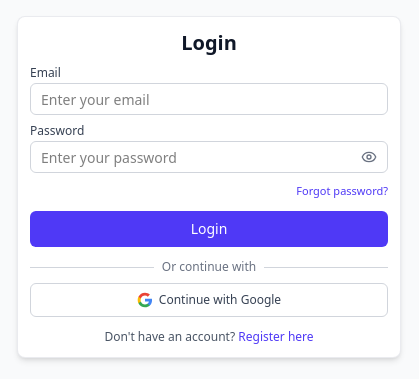
Test case: Login Component › OTP verification flow › should show OTP step when login returns requiresVerification
This screenshot has width=419, height=379.
Type "user@example.com" into the field labelled "Email".
click(209, 99); type("user@example.com")  # box [30,83,388,115]
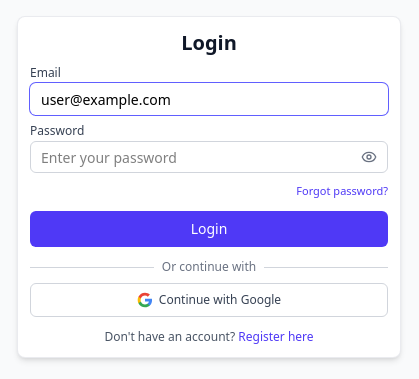
Type "secret12" into the password field labelled "Password".
click(209, 157); type("secret12")  # box [30,141,388,173]
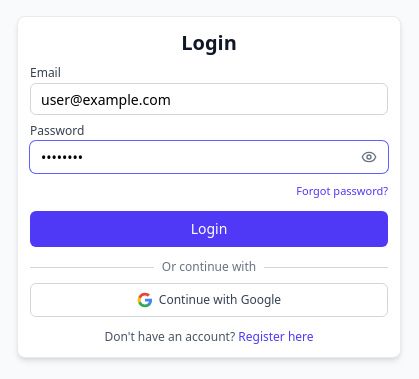
Click the button "Login".
click(209, 229)  # box [30,211,388,247]
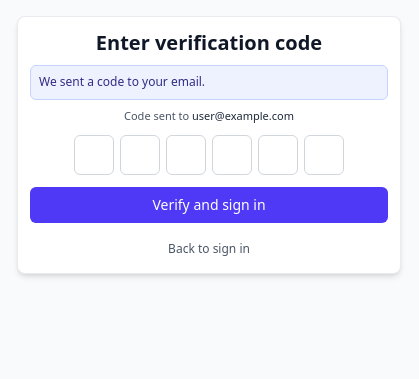
Now the heading "Enter verification code" is shown, box [96,29,322,56]
Now the button "Verify and sign in" is shown, box [30,187,388,223]
Now the text "We sent a code to your email." is shown, box [39,73,205,90]
